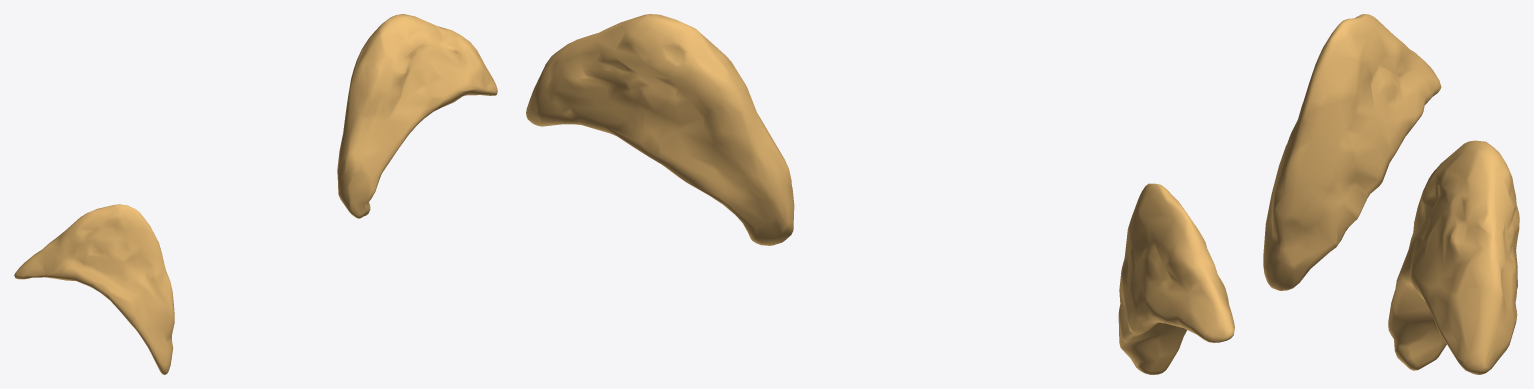
Rendered from suprarrenais.glb.
3 renders of one model, left to right at view 1: azimuth 30°, elevation 25°; view 2: azimuth 150°, elevation 25°; view 3: azimuth 270°, elevation 25°, orthographic. The views are drawn at different scales.
Parts seen in each view (by area): view 1: suprarrenais; view 2: suprarrenais; view 3: suprarrenais.
Part boxes in pixels (x1,y1,x2,y2): suprarrenais: (14,14,497,374); suprarrenais: (526,14,1234,374); suprarrenais: (1263,14,1519,374).
Bounding box in the file's own units: 0.138 × 0.0627 × 0.0392.
